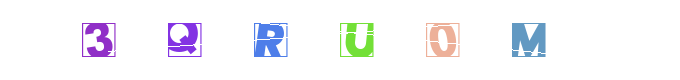0: (369, 0, 449, 80)
3: (101, 0, 181, 80)
M: (397, 0, 477, 80)
Q: (208, 0, 288, 80)
R: (301, 0, 381, 80)
U: (318, 0, 398, 80)
